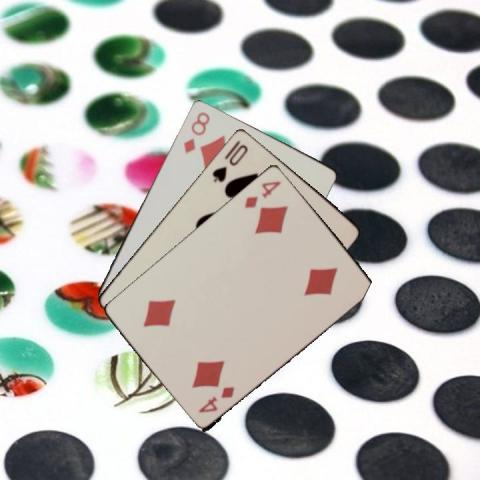10s: (210, 141, 250, 183)
4d: (241, 178, 283, 210), (195, 383, 236, 414)
8d: (180, 108, 211, 154)
